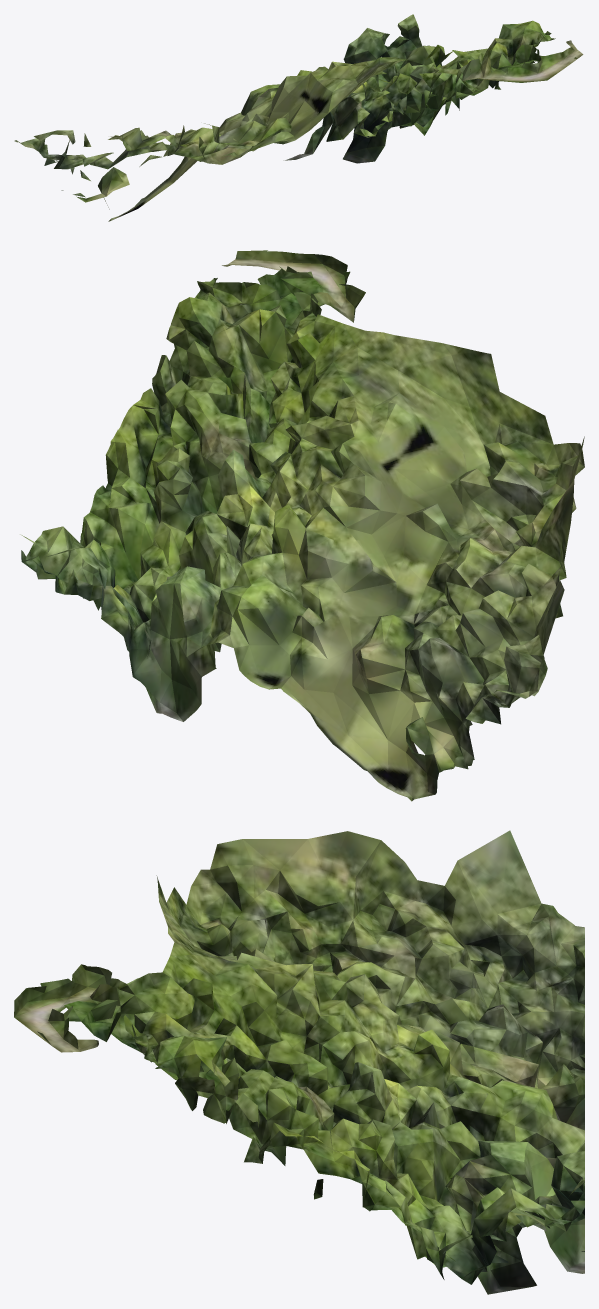
3 views of the same model, one above another, from view 1: azimuth 30°, elevation 25°; view 2: azimuth 150°, elevation 25°; view 3: azimuth 270°, elevation 25° (orthographic). The views are drawn at different scales.
Size of the model in its own units: 209 by 111 by 168.
Materials: 3 (3 with a texture image).
